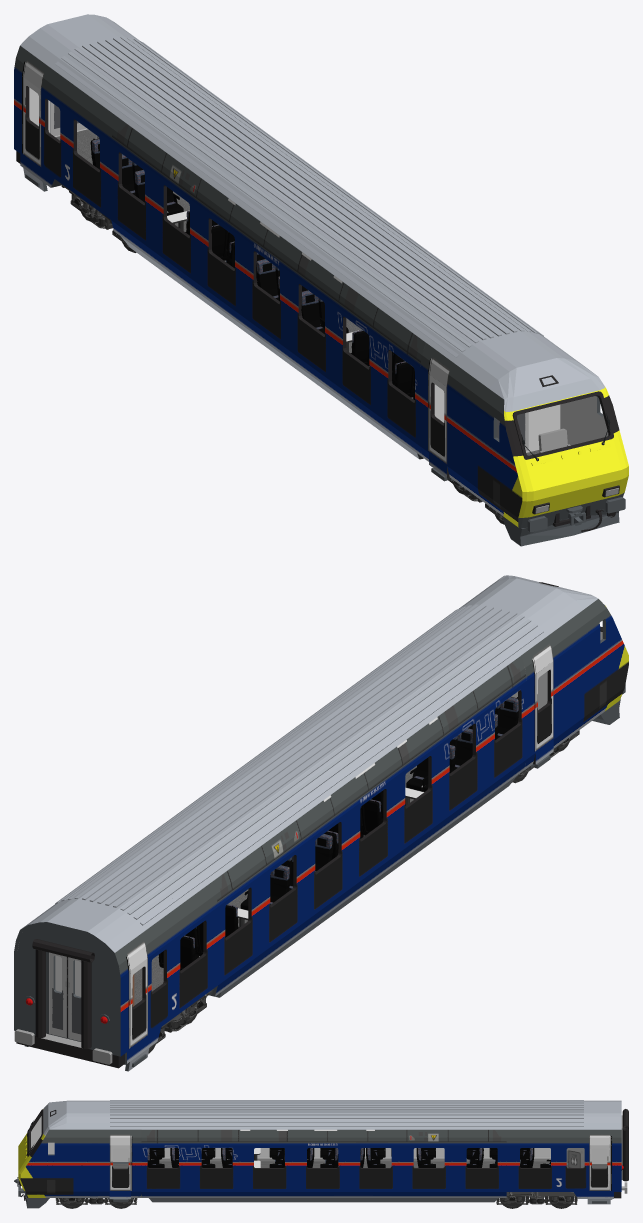
The model's file is nightjetcontrolcar.obj.
3 renders of one model, top to bottom at view 1: azimuth 30°, elevation 25°; view 2: azimuth 150°, elevation 25°; view 3: azimuth 270°, elevation 25°, orthographic. The views are drawn at different scales.
Parts seen in each view (by area): view 1: side, jibung, back, tongilchair, backin, inside, door_RB, door_RF, DT71, badak, backdoor; view 2: side, jibung, back, tongilchair, tongromak, backdoor, door_RF, door_RB, DT71, badak, habu2; view 3: side, jibung, tongilchair, DT71, back, door_LB, inside, door_LF, badak, hitter, tongromak, wall (+2 smaller).
Part boxes in pixels (x1,y1,x2,y2): side: (14, 45, 602, 527); jibung: (20, 14, 582, 388); back: (489, 358, 628, 546); tongilchair: (90, 138, 414, 399); backin: (29, 87, 560, 452); inside: (560, 396, 608, 445); door_RB: (23, 77, 41, 180); door_RF: (429, 374, 449, 477); DT71: (61, 185, 504, 524); badak: (55, 129, 539, 455); backdoor: (50, 102, 528, 450); side: (14, 599, 628, 1071); jibung: (22, 578, 583, 952); back: (17, 575, 620, 1055); tongilchair: (158, 697, 518, 970); tongromak: (32, 939, 94, 1048); backdoor: (49, 952, 81, 1041); door_RF: (533, 661, 553, 764); door_RB: (130, 958, 147, 1061); DT71: (148, 730, 579, 1053); badak: (134, 766, 424, 1005); habu2: (16, 1036, 124, 1068); side: (20, 1129, 621, 1204); jibung: (66, 1100, 621, 1129); tongilchair: (147, 1148, 534, 1167); DT71: (55, 1192, 577, 1208); back: (14, 1101, 66, 1208); door_LB: (589, 1145, 610, 1203); inside: (31, 1116, 550, 1155); door_LF: (109, 1145, 130, 1198); badak: (113, 1161, 607, 1168); hitter: (151, 1156, 550, 1161); tongromak: (622, 1109, 628, 1181); wall: (540, 1148, 584, 1167).
Bounding box in the file's own units: 2.87 × 4.01 × 23.83.
Materials: 22 (21 with a texture image).
